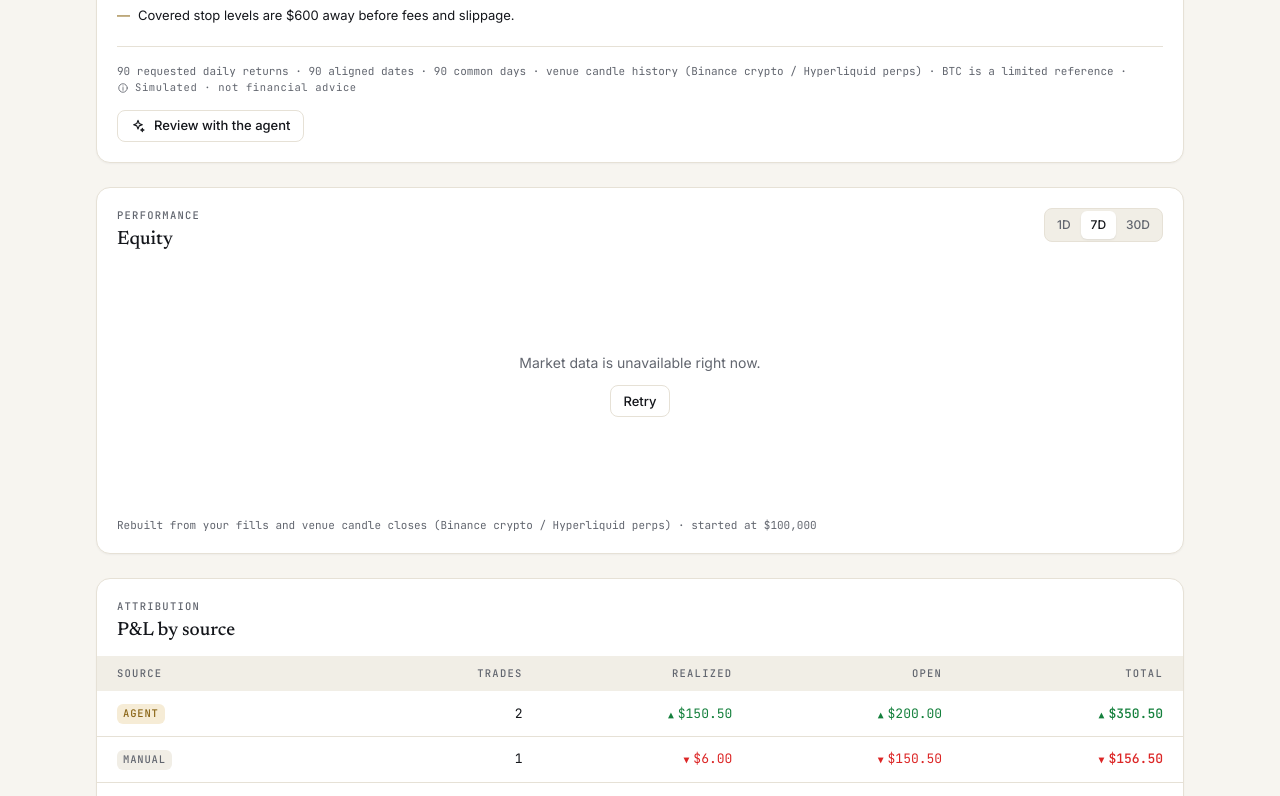
Test: AccountPage › shows a retry row when the equity curve fails
The width and height of the screenshot is (1280, 796).
(page scrolled)
Expected: the text "Market data is unavailable right now." is shown, [519,354,761,371]
Click the button "Retry".
click(640, 401)  # box [610,385,670,417]
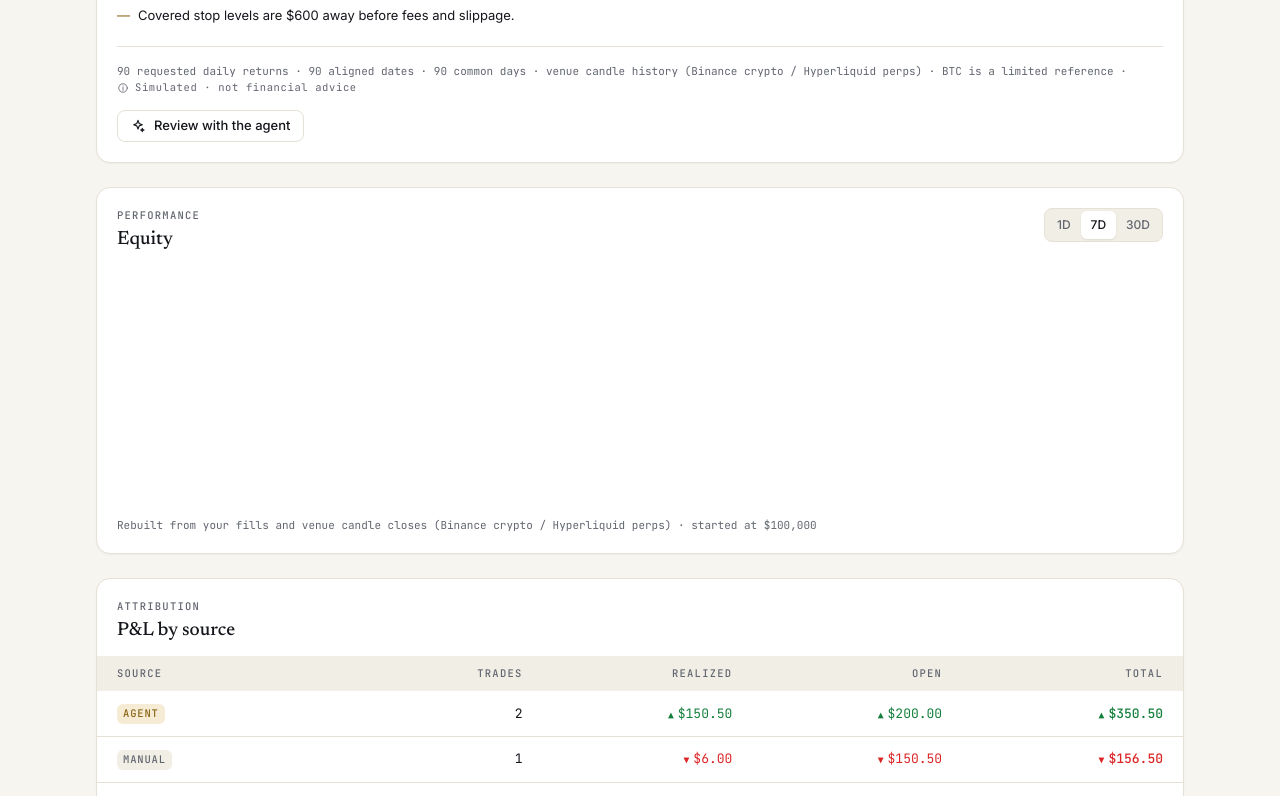
Expected: the text "Market data is unavailable right now." is gone
